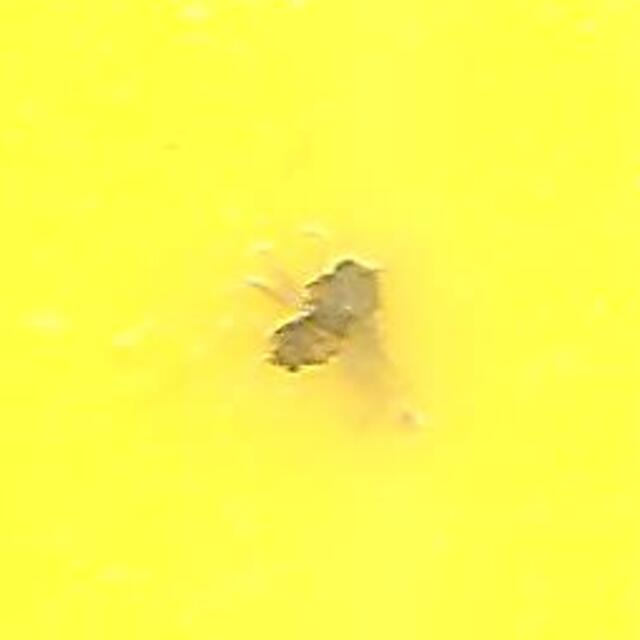Nematocera: (251, 245, 389, 395)
